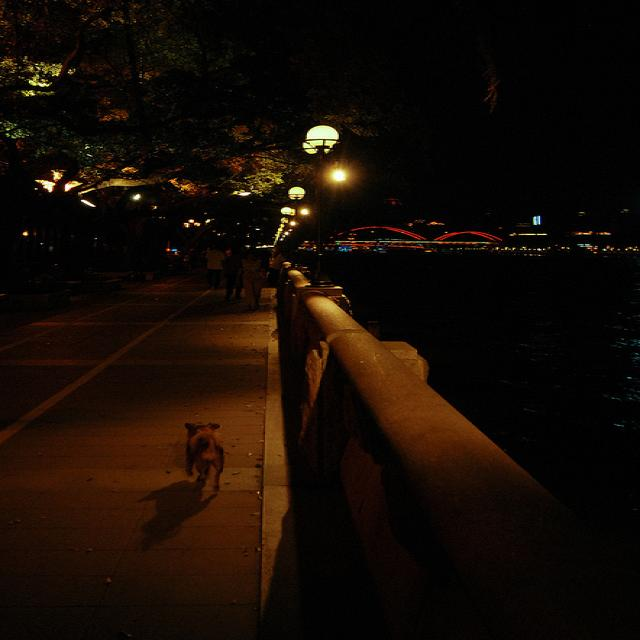dog: (138, 419, 288, 529)
